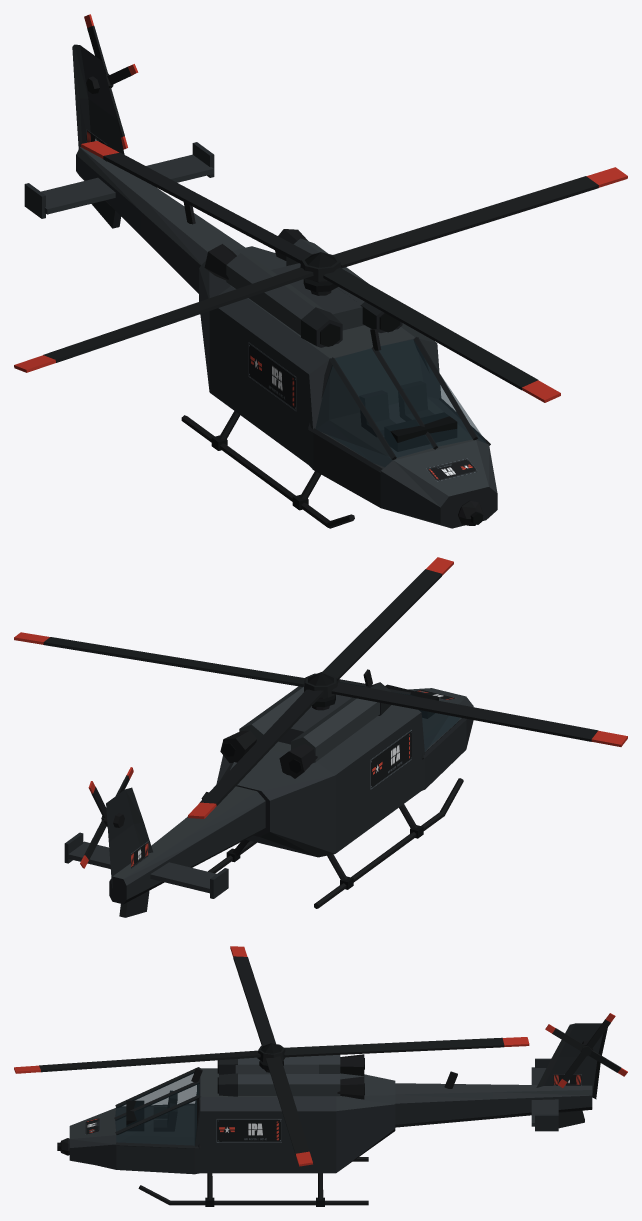
Rendered from army-helicopter-ipa.glb.
The picture shows the model from 3 angles, top to bottom: view 1: azimuth 30°, elevation 25°; view 2: azimuth 150°, elevation 25°; view 3: azimuth 270°, elevation 25°; orthographic projection. The views are drawn at different scales.
Parts seen in each view (by area): view 1: Airframe_Mesh, MainRotor_Mesh, Canopy_Mesh, IPA_Markings_Mesh, TailRotor_Mesh; view 2: Airframe_Mesh, MainRotor_Mesh, IPA_Markings_Mesh, Canopy_Mesh, TailRotor_Mesh; view 3: Airframe_Mesh, MainRotor_Mesh, Canopy_Mesh, IPA_Markings_Mesh, TailRotor_Mesh.
Part boxes in pixels (bbox=[...]): Airframe_Mesh: bbox=[24, 44, 497, 528]; MainRotor_Mesh: bbox=[14, 141, 627, 402]; Canopy_Mesh: bbox=[315, 339, 486, 466]; IPA_Markings_Mesh: bbox=[86, 129, 478, 481]; TailRotor_Mesh: bbox=[84, 14, 138, 149]; Airframe_Mesh: bbox=[64, 669, 473, 917]; MainRotor_Mesh: bbox=[14, 557, 627, 818]; IPA_Markings_Mesh: bbox=[131, 689, 456, 868]; Canopy_Mesh: bbox=[341, 682, 459, 751]; TailRotor_Mesh: bbox=[80, 767, 133, 868]; Airframe_Mesh: bbox=[57, 1023, 607, 1206]; MainRotor_Mesh: bbox=[14, 946, 529, 1166]; Canopy_Mesh: bbox=[115, 1072, 199, 1145]; IPA_Markings_Mesh: bbox=[85, 1074, 581, 1142]; TailRotor_Mesh: bbox=[545, 1013, 627, 1087].
Size of the model in its own units: 9.18 by 3.46 by 10.94.
Materials: 3 (1 with a texture image).
